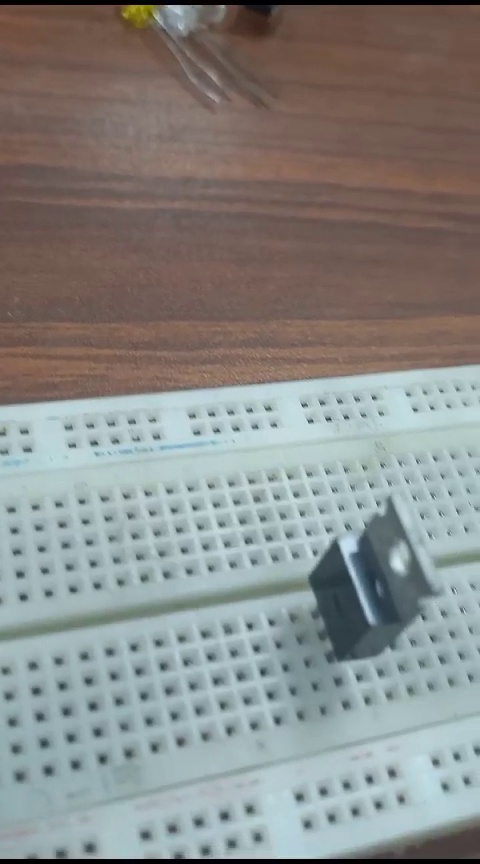voltage regulator: (285, 497, 448, 671)
